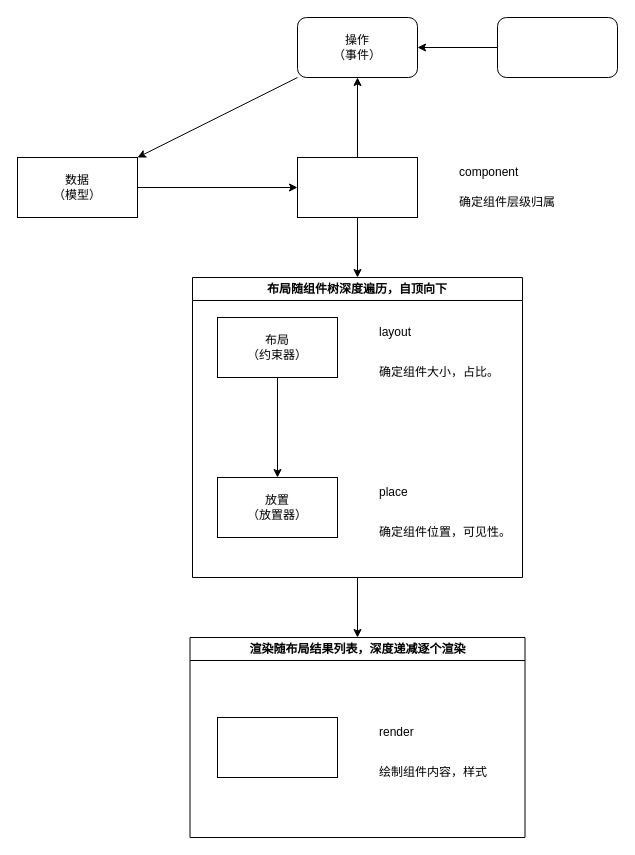
Some shapes in this 635 by 855 pixel diagram are drawn without their labels. Each missing label, with the centre of its shape:
"硬件" goes at (557,47).
"组织 （组件树）" goes at (357,187).
"绘制 （渲染器）" goes at (277,747).
